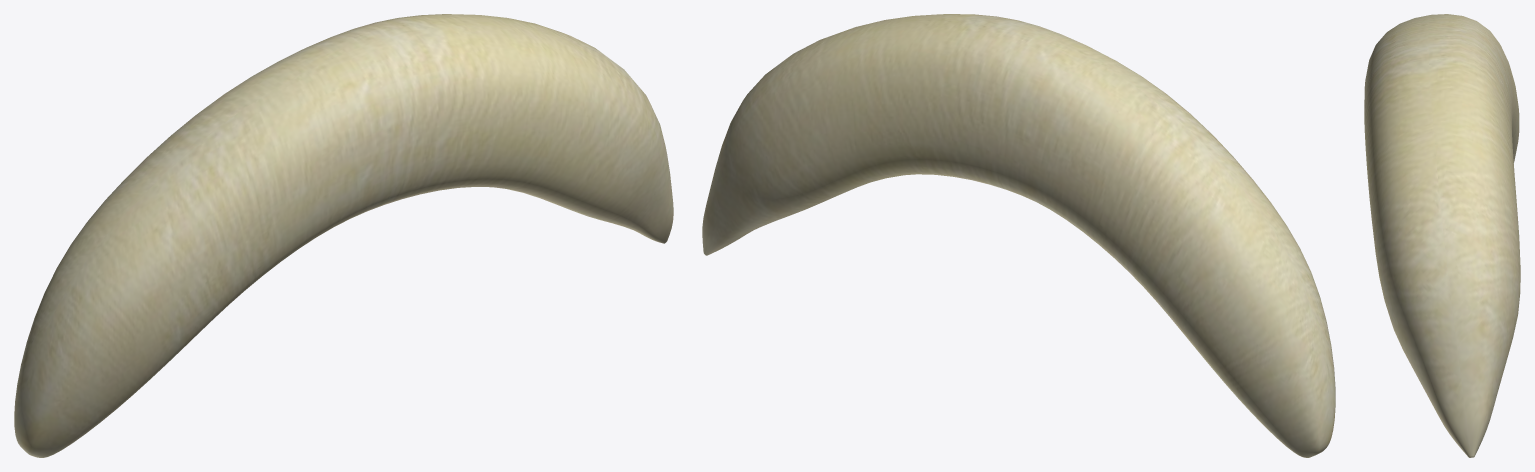
The model's file is GreenBananaFlesh.obj.
3 renders of one model, left to right at view 1: azimuth 30°, elevation 25°; view 2: azimuth 150°, elevation 25°; view 3: azimuth 270°, elevation 25°, orthographic. The views are drawn at different scales.
Visible parts, largest first — view 1: GreenBananaFlesh; view 2: GreenBananaFlesh; view 3: GreenBananaFlesh.
Part boxes in pixels (x1,y1,x2,y2): GreenBananaFlesh: (14,14,673,457); GreenBananaFlesh: (702,14,1335,457); GreenBananaFlesh: (1364,14,1520,457).
Bounding box in the file's own units: 0.1763 × 0.0917 × 0.0392.
Materials: 1 (1 with a texture image).
